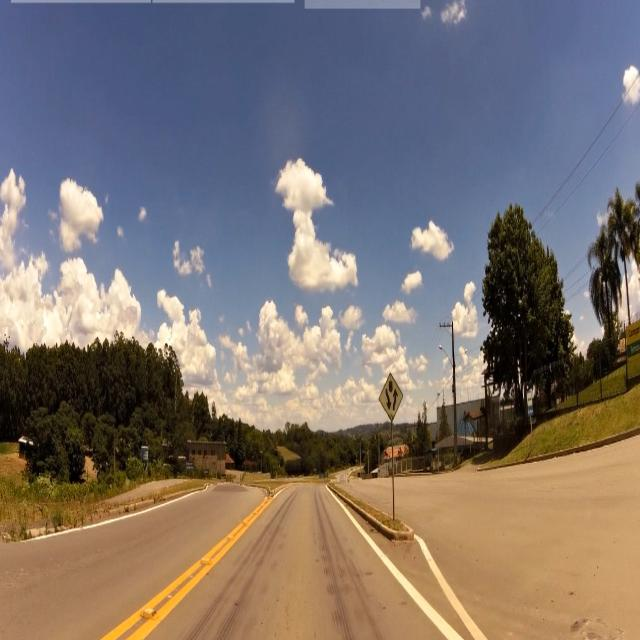A-42a: (381, 368, 402, 418)
